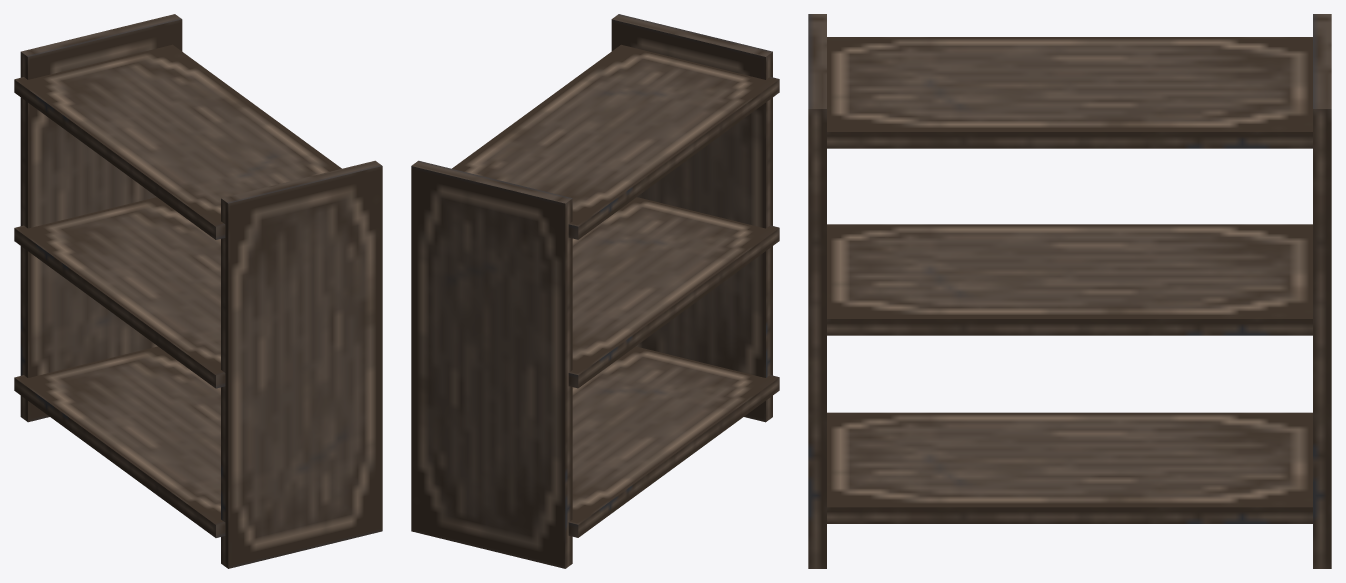
File: wooden_shelf.fbx
3 renders of one model, left to right at view 1: azimuth 30°, elevation 25°; view 2: azimuth 150°, elevation 25°; view 3: azimuth 270°, elevation 25°, orthographic. The views are drawn at different scales.
Visible parts, largest first — view 1: pCube22; view 2: pCube22; view 3: pCube22.
Part boxes in pixels (x1,y1,x2,y2): pCube22: [14, 14, 382, 568]; pCube22: [411, 14, 779, 568]; pCube22: [808, 14, 1331, 568].
Size of the model in its own units: 295 by 628 by 647.
